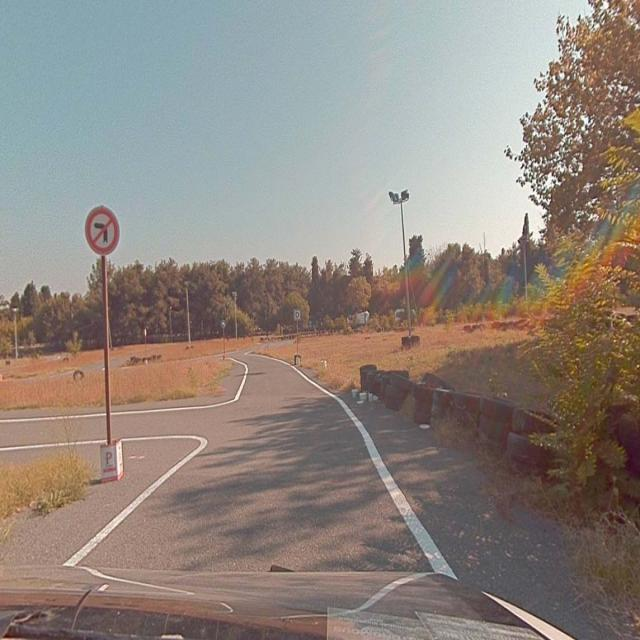durak: (293, 309, 301, 320)
soladonulmez: (84, 206, 120, 252)
